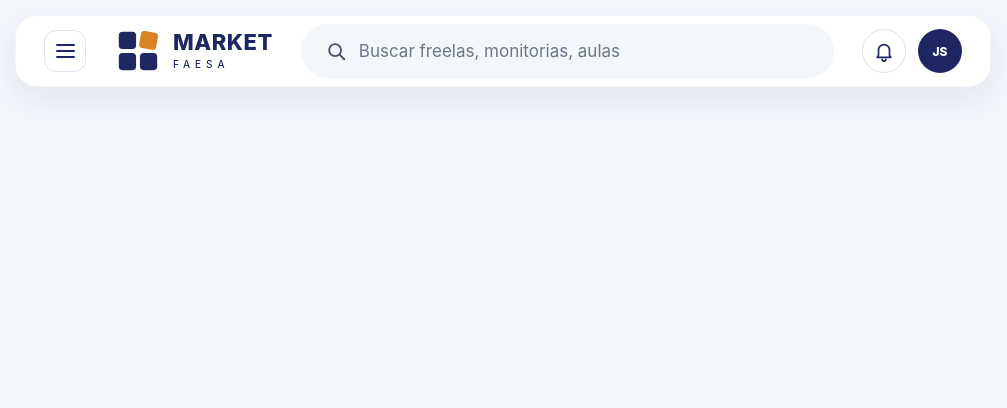
sino de notificações › mostra erro ao carregar e tenta de novo
Click the button named "Notificações": (884, 51) [862,29,906,73]
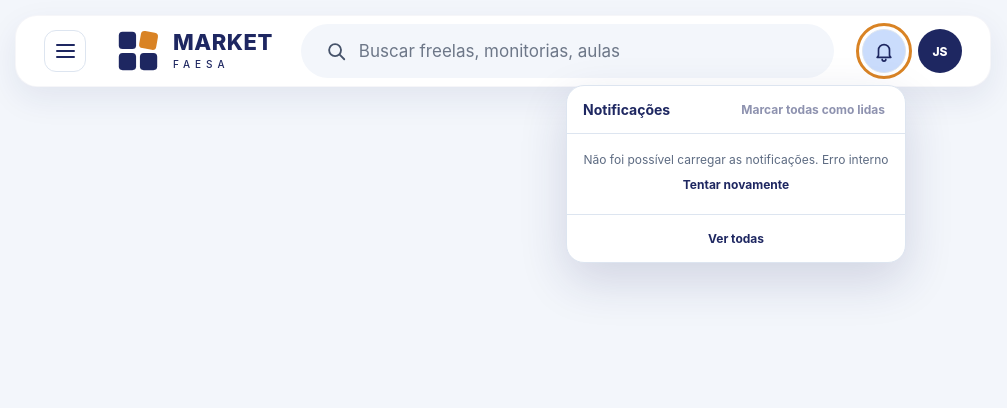
Result: the message shows "Não foi possível carregar as notificações. Erro interno" at [584,152,888,196]
Click the button "Tentar novamente": (736, 184) [679,173,793,196]
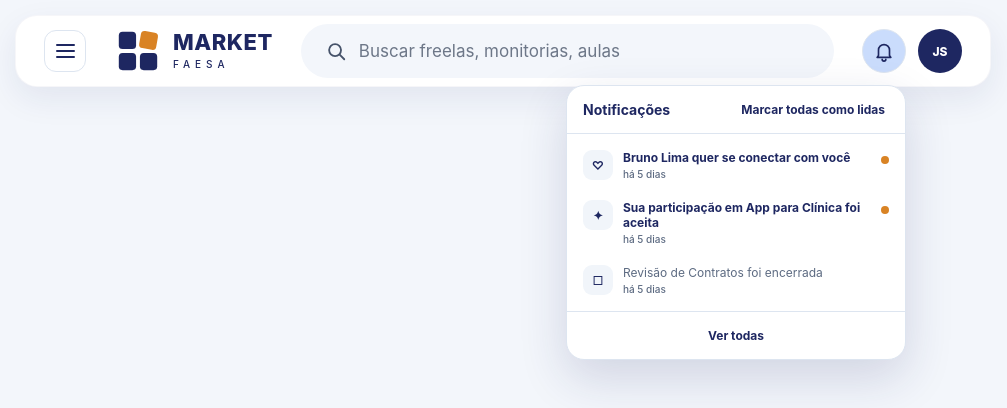
Result: the text "Bruno Lima quer se conectar com você" is shown at [623,150,871,165]
